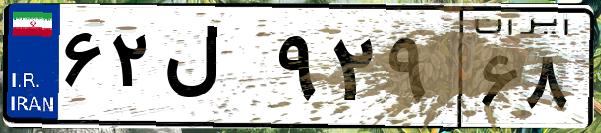2: (330, 28, 385, 110), (110, 28, 158, 98)
6: (57, 26, 110, 100), (475, 38, 525, 113)
8: (525, 38, 570, 115)
9: (270, 28, 330, 110), (385, 28, 445, 110)
ل: (158, 20, 270, 120)
